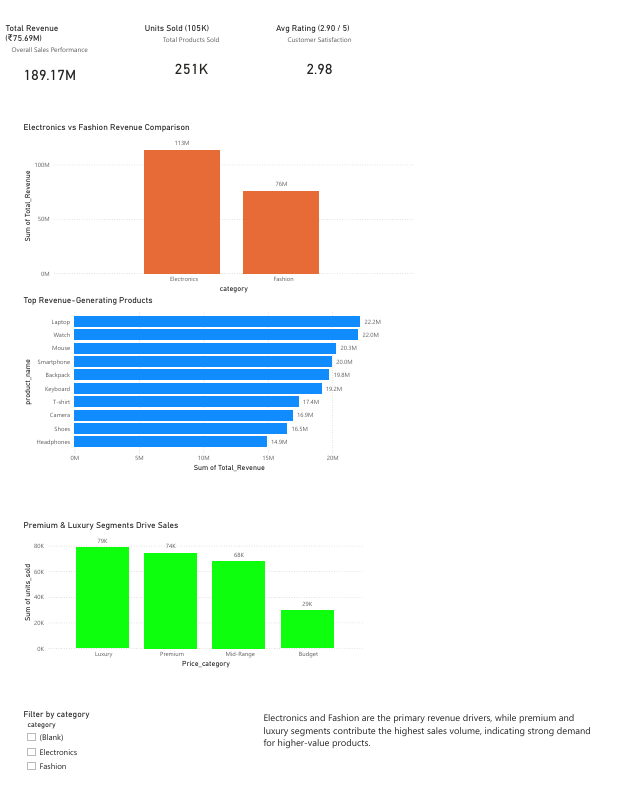

The page's visual inventory and layout, read from the dashboard file:
{"tool":"powerbi","page":{"name":"Page 1","canvas":[1300,2000],"ordinal":0},"visuals":[{"type":"card","title":"Total Revenue (₹75.69M)","fields":{"Values":["Sum(DATA_ANALYSIS_PROJECT.Total_Revenue)"]},"box":[18,94,186,140],"z":0},{"type":"card","title":"Units Sold (105K)","fields":{"Values":["Sum(DATA_ANALYSIS_PROJECT.units_sold)"]},"box":[296,94,196,140],"z":1000},{"type":"card","title":"Avg Rating (2.90 / 5)","fields":{"Values":["Avg(DATA_ANALYSIS_PROJECT.rating)"]},"box":[558,94,184,140],"z":2000},{"type":"clusteredColumnChart","title":"Electronics vs Fashion Revenue Comparison","fields":{"Y":["Sum(DATA_ANALYSIS_PROJECT.Total_Revenue)"],"Category":["DATA_ANALYSIS_PROJECT.category"]},"box":[54,292,788,346],"z":3000},{"type":"clusteredBarChart","title":"Top Revenue-Generating Products","fields":{"Category":["DATA_ANALYSIS_PROJECT.product_name"],"Y":["Sum(DATA_ANALYSIS_PROJECT.Total_Revenue)"]},"box":[54,638,742,358],"z":4000},{"type":"clusteredColumnChart","title":"Premium & Luxury Segments Drive Sales","fields":{"Category":["DATA_ANALYSIS_PROJECT.Price_category"],"Y":["Sum(DATA_ANALYSIS_PROJECT.units_sold)"]},"box":[54,1088,688,300],"z":5000},{"type":"slicer","title":"Filter by category","fields":{"Values":["DATA_ANALYSIS_PROJECT.category"]},"box":[54,1466,630,374],"z":6000},{"type":"textbox","box":[54,1850,630,150],"z":7000},{"type":"textbox","box":[532.9,1465.8,665.8,94.7],"z":8000}]}

Visuals, with their boxes on the page's 1300x2000 design canvas (x1, y1, x2, y2). These are canvas units, not pixel positions in the 618x787 screenshot, which may show the page scaled, cropped or inside an application window:
"Total Revenue (₹75.69M)" card: pyautogui.locateOnScreen(18, 94, 204, 234)
"Units Sold (105K)" card: pyautogui.locateOnScreen(296, 94, 492, 234)
"Avg Rating (2.90 / 5)" card: pyautogui.locateOnScreen(558, 94, 742, 234)
"Electronics vs Fashion Revenue Comparison" clusteredColumnChart: pyautogui.locateOnScreen(54, 292, 842, 638)
"Top Revenue-Generating Products" clusteredBarChart: pyautogui.locateOnScreen(54, 638, 796, 996)
"Premium & Luxury Segments Drive Sales" clusteredColumnChart: pyautogui.locateOnScreen(54, 1088, 742, 1388)
"Filter by category" slicer: pyautogui.locateOnScreen(54, 1466, 684, 1840)
textbox: pyautogui.locateOnScreen(54, 1850, 684, 2000)
textbox: pyautogui.locateOnScreen(533, 1466, 1199, 1560)
